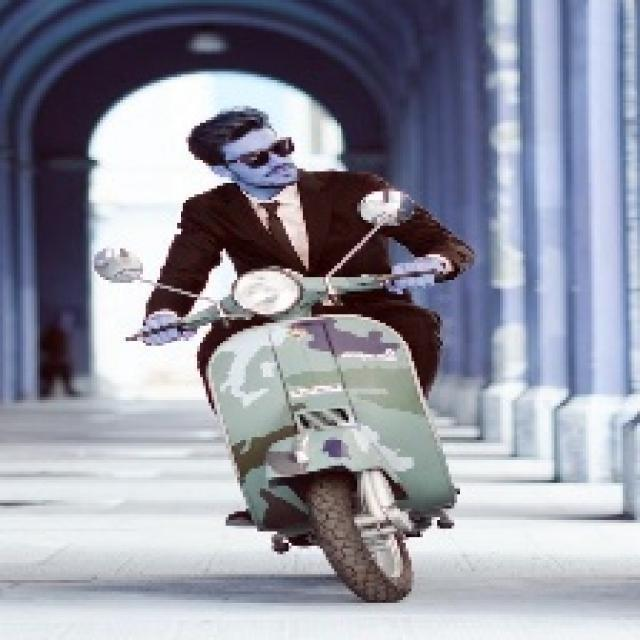bike: (179, 269, 466, 604)
